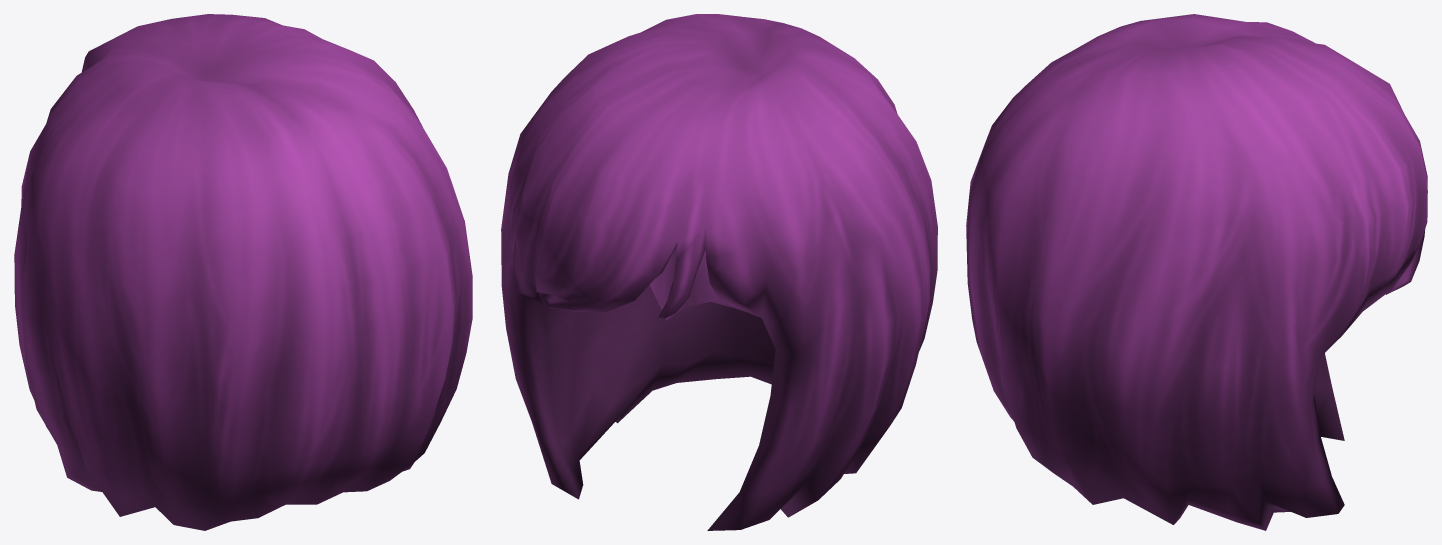
File: Hair_Female_004_textured_purple.glb
3 renders of one model, left to right at view 1: azimuth 30°, elevation 25°; view 2: azimuth 150°, elevation 25°; view 3: azimuth 270°, elevation 25°, orthographic. The views are drawn at different scales.
Parts seen in each view (by area): view 1: Hair_Female_004; view 2: Hair_Female_004; view 3: Hair_Female_004.
Boxes of the visible parts, x1=… form: Hair_Female_004: x1=14, y1=14, x2=472, y2=530; Hair_Female_004: x1=501, y1=14, x2=937, y2=530; Hair_Female_004: x1=966, y1=14, x2=1427, y2=530.
Size of the model in its own units: 0.214 by 0.2309 by 0.223.
1 material, 1 textured.
